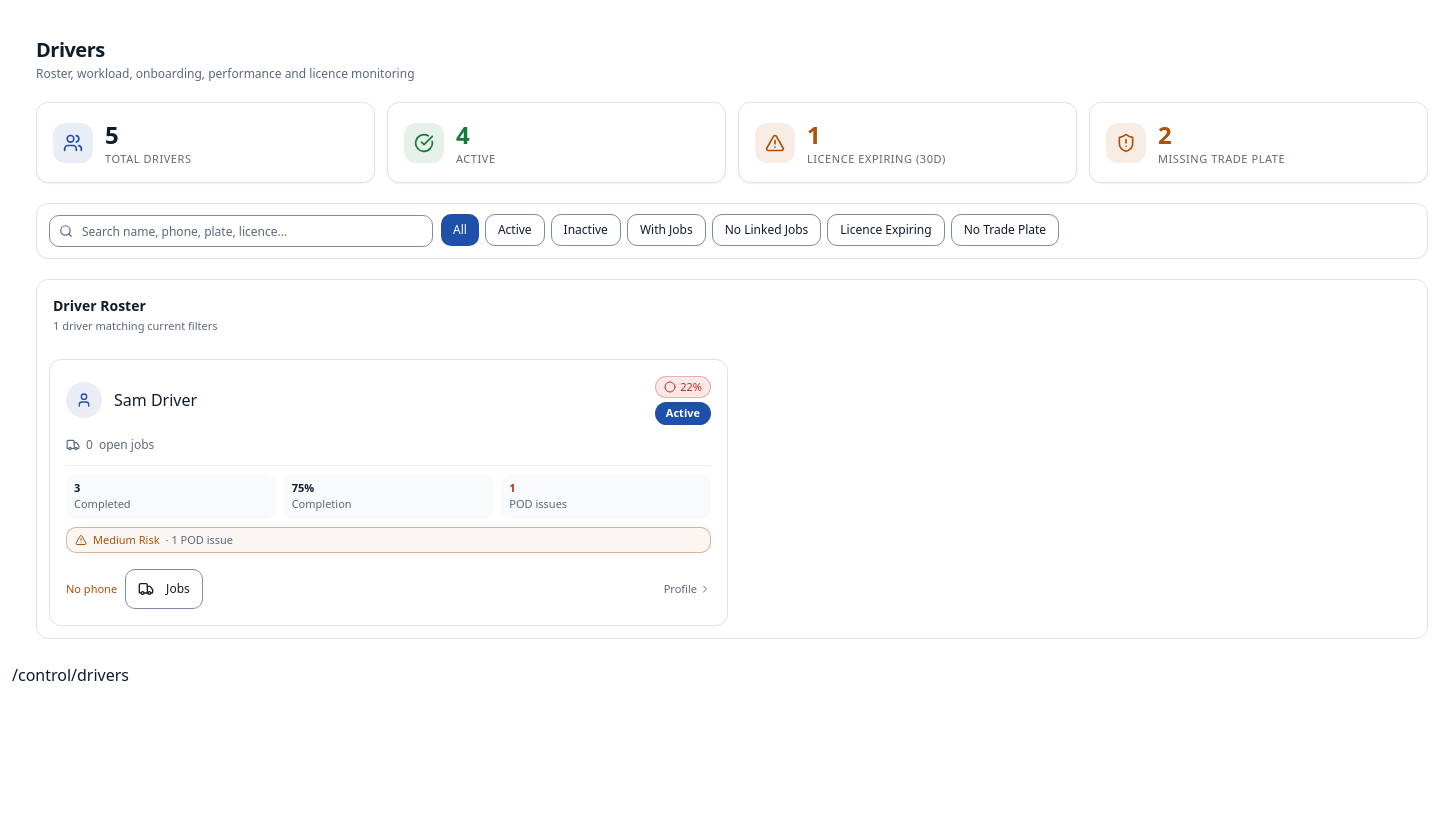
Test: ControlDrivers linking › Jobs on a card opens that driver's jobs
This screenshot has width=1452, height=822.
Click the button "Jobs" at coordinates (164, 589), box [125,569,203,609]
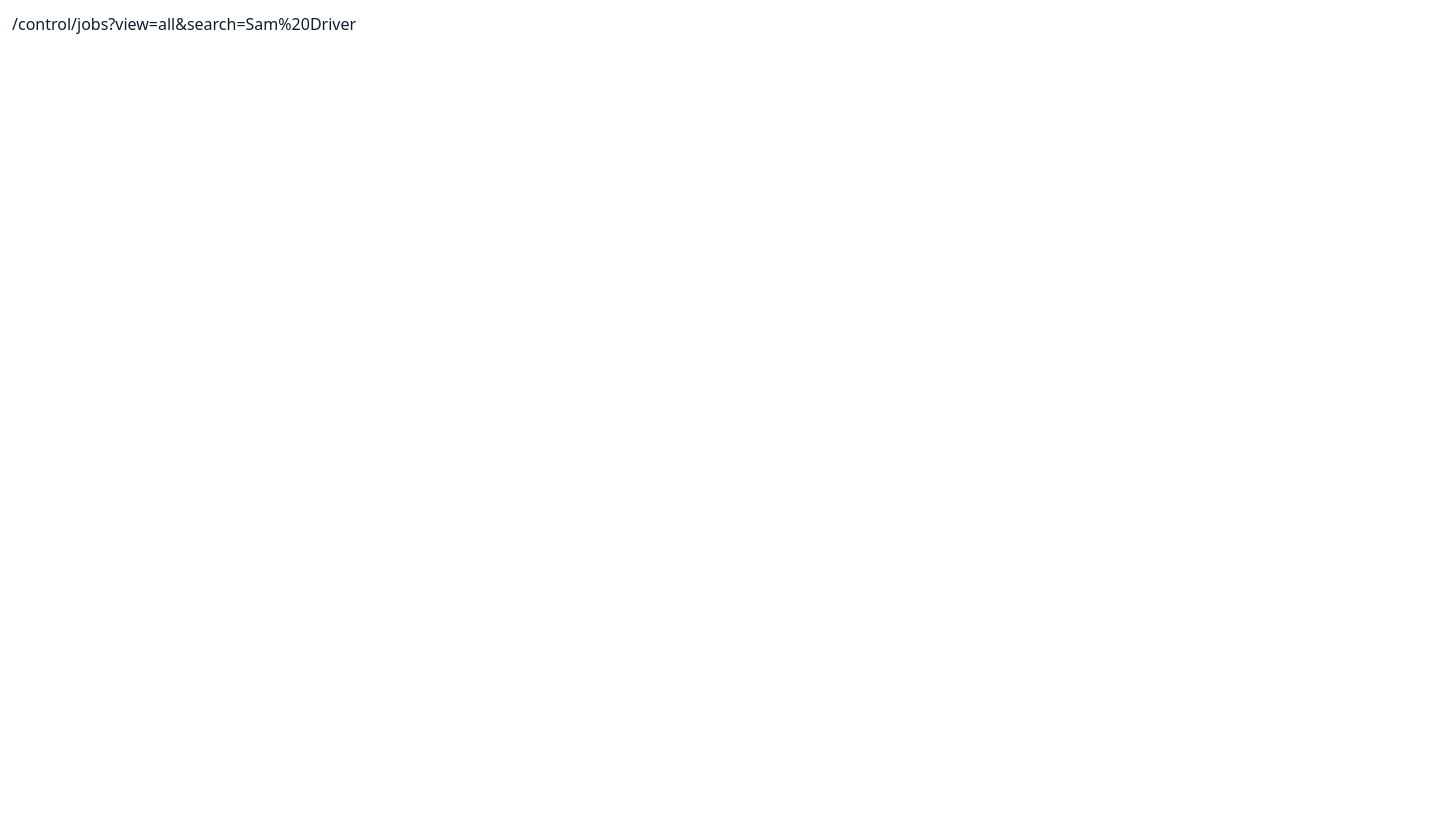
Now the text with test id "location" reads "/control/jobs?view=all&search=Sam%20Driver", box [12,13,356,35]
